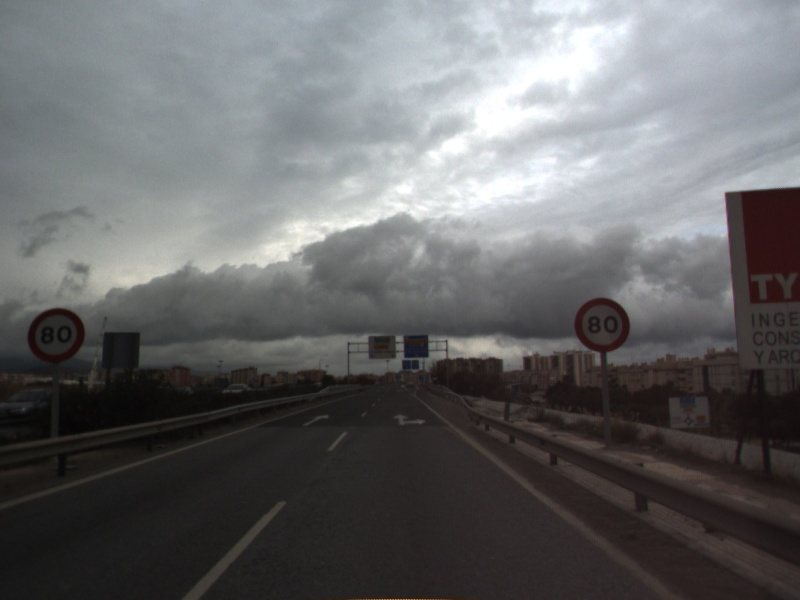STRAIGHT: (299, 412, 331, 428)
STRAIGHT_RIGHT: (391, 412, 429, 428)
